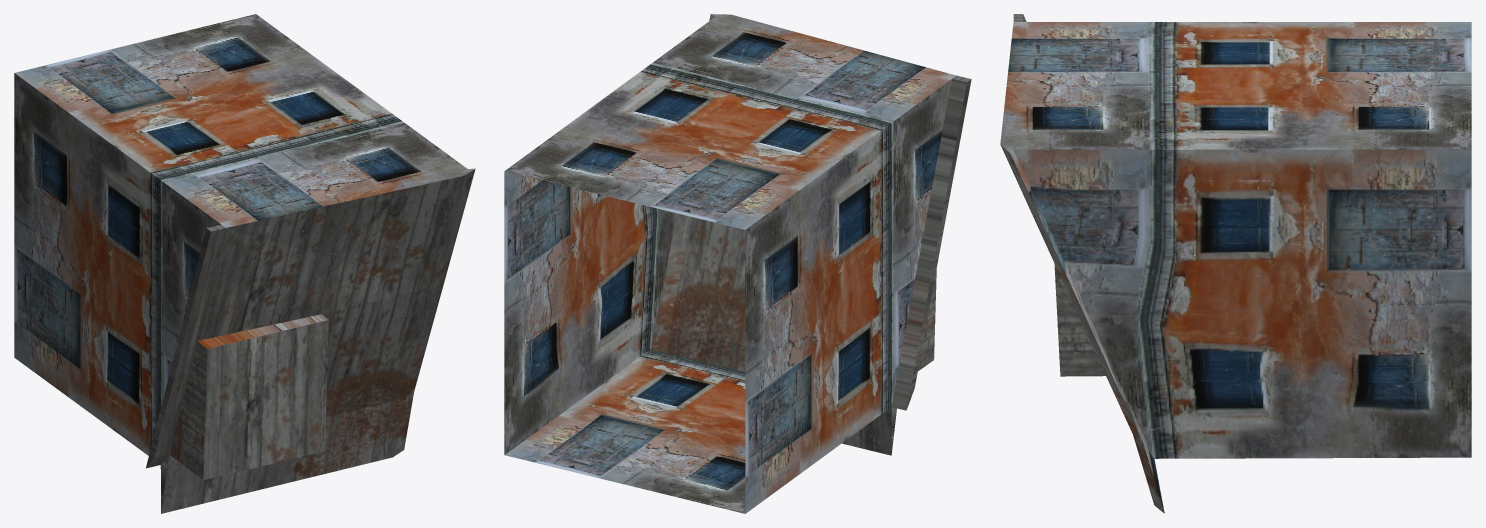
File: houseduchamp03_wtf.obj
3 views of the same model, side by side, from view 1: azimuth 30°, elevation 25°; view 2: azimuth 150°, elevation 25°; view 3: azimuth 270°, elevation 25° (orthographic). The views are drawn at different scales.
Parts seen in each view (by area): view 1: group2; view 2: group2; view 3: group2.
Boxes of the visible parts, left/top/right/bottom form: group2: left=14, top=14, right=475, bottom=513; group2: left=504, top=14, right=971, bottom=513; group2: left=1000, top=14, right=1471, bottom=513.
Bounding box in the file's own units: 460 × 558 × 660.
